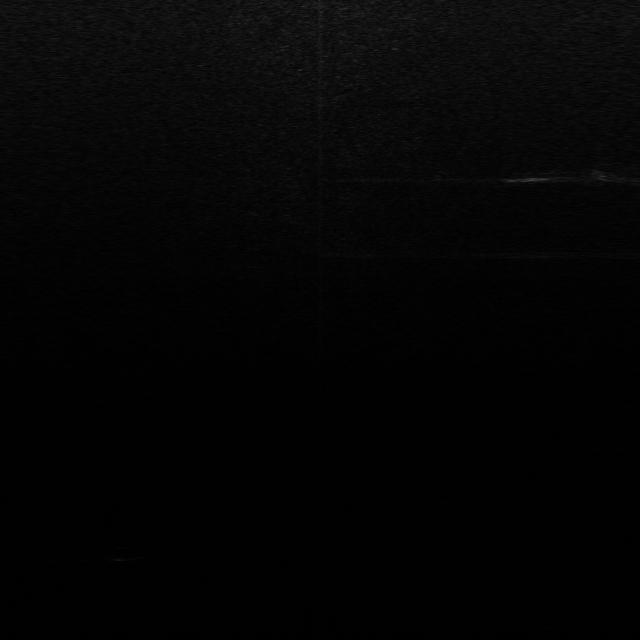tyre: (98, 545, 141, 562)
